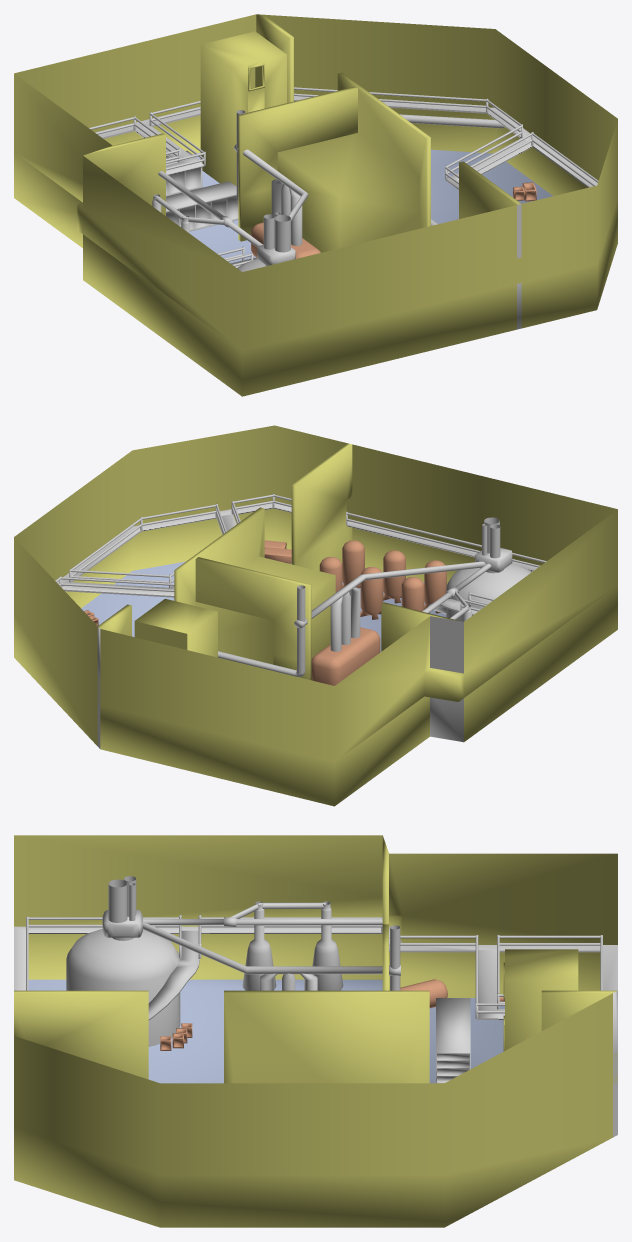
Rendered from factory_BSW.dae.
3 views of the same model, one above another, from view 1: azimuth 30°, elevation 25°; view 2: azimuth 150°, elevation 25°; view 3: azimuth 270°, elevation 25° (orthographic). The views are drawn at different scales.
Visible parts, largest first — view 1: fac; view 2: fac; view 3: fac.
Boxes of the visible parts, x1,y1,x2,y2 form: fac: (14, 14, 617, 396); fac: (14, 425, 617, 806); fac: (14, 835, 617, 1227).
Bounding box in the file's own units: 61.73 × 63.49 × 16.96.
